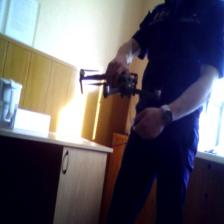drone: (72, 58, 170, 109)
